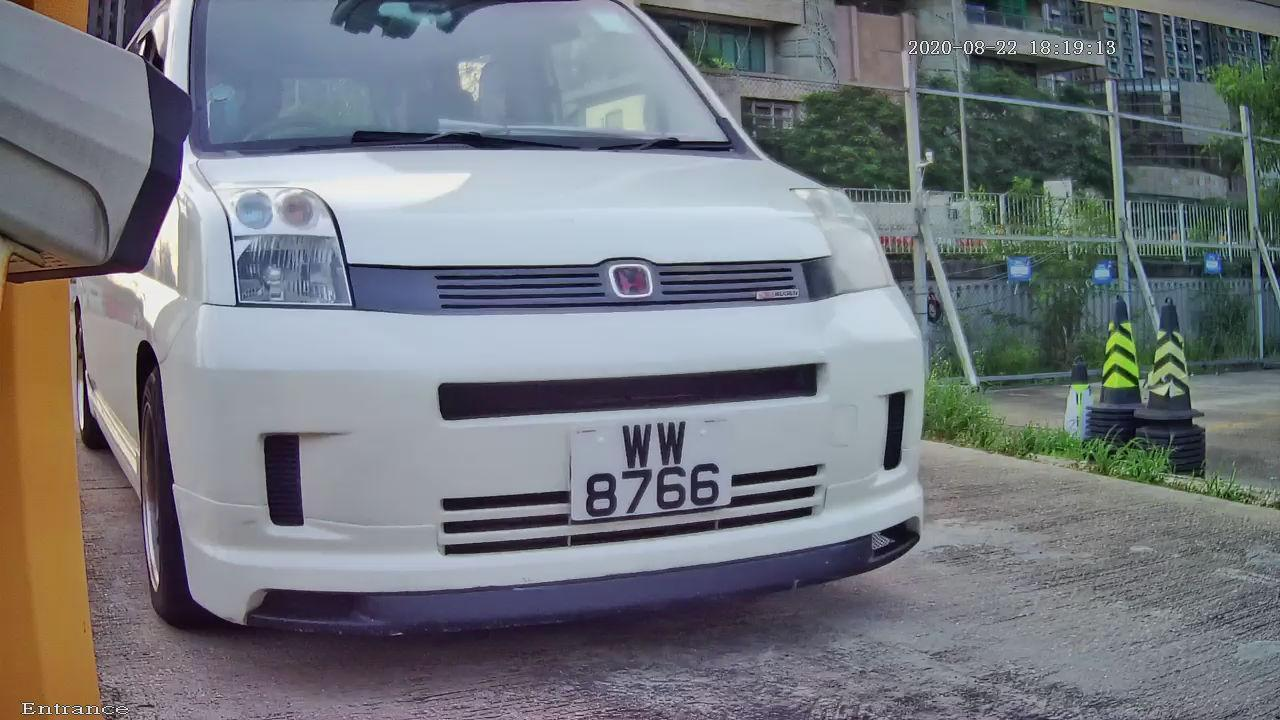License Plate: (555, 406, 755, 541)
